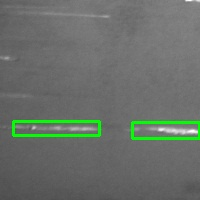scratches: (13, 121, 99, 135), (132, 122, 199, 138)
